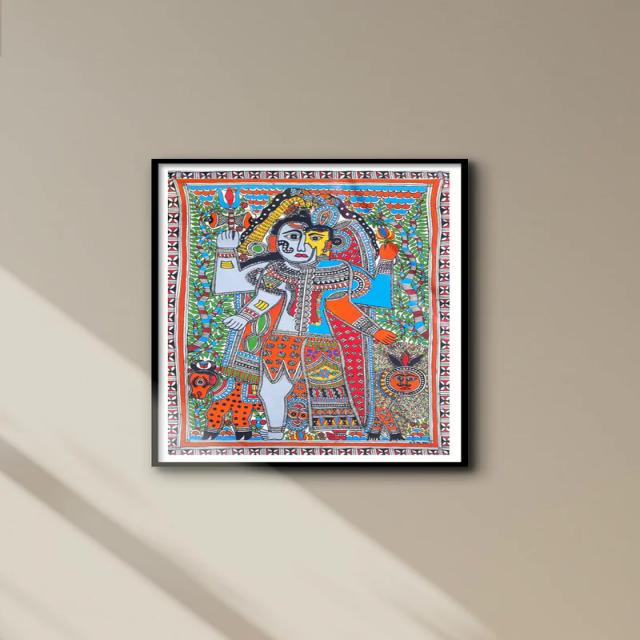painting: (155, 158, 468, 469)
